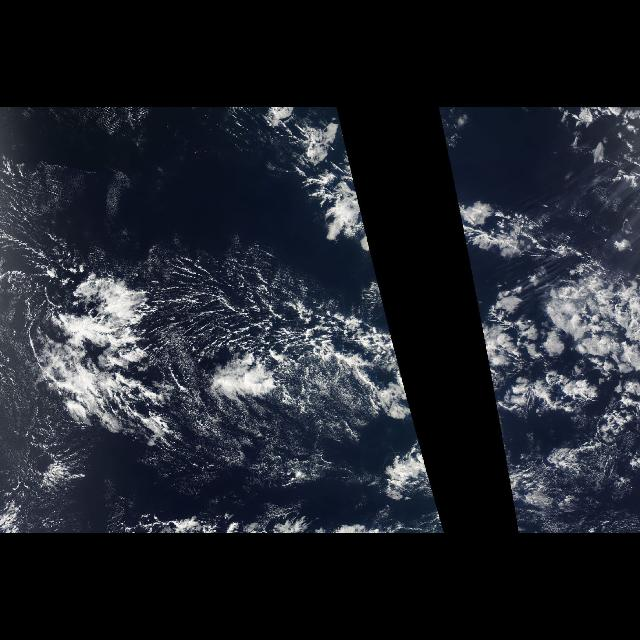Fish: (33, 130, 437, 503), (442, 130, 630, 503)
